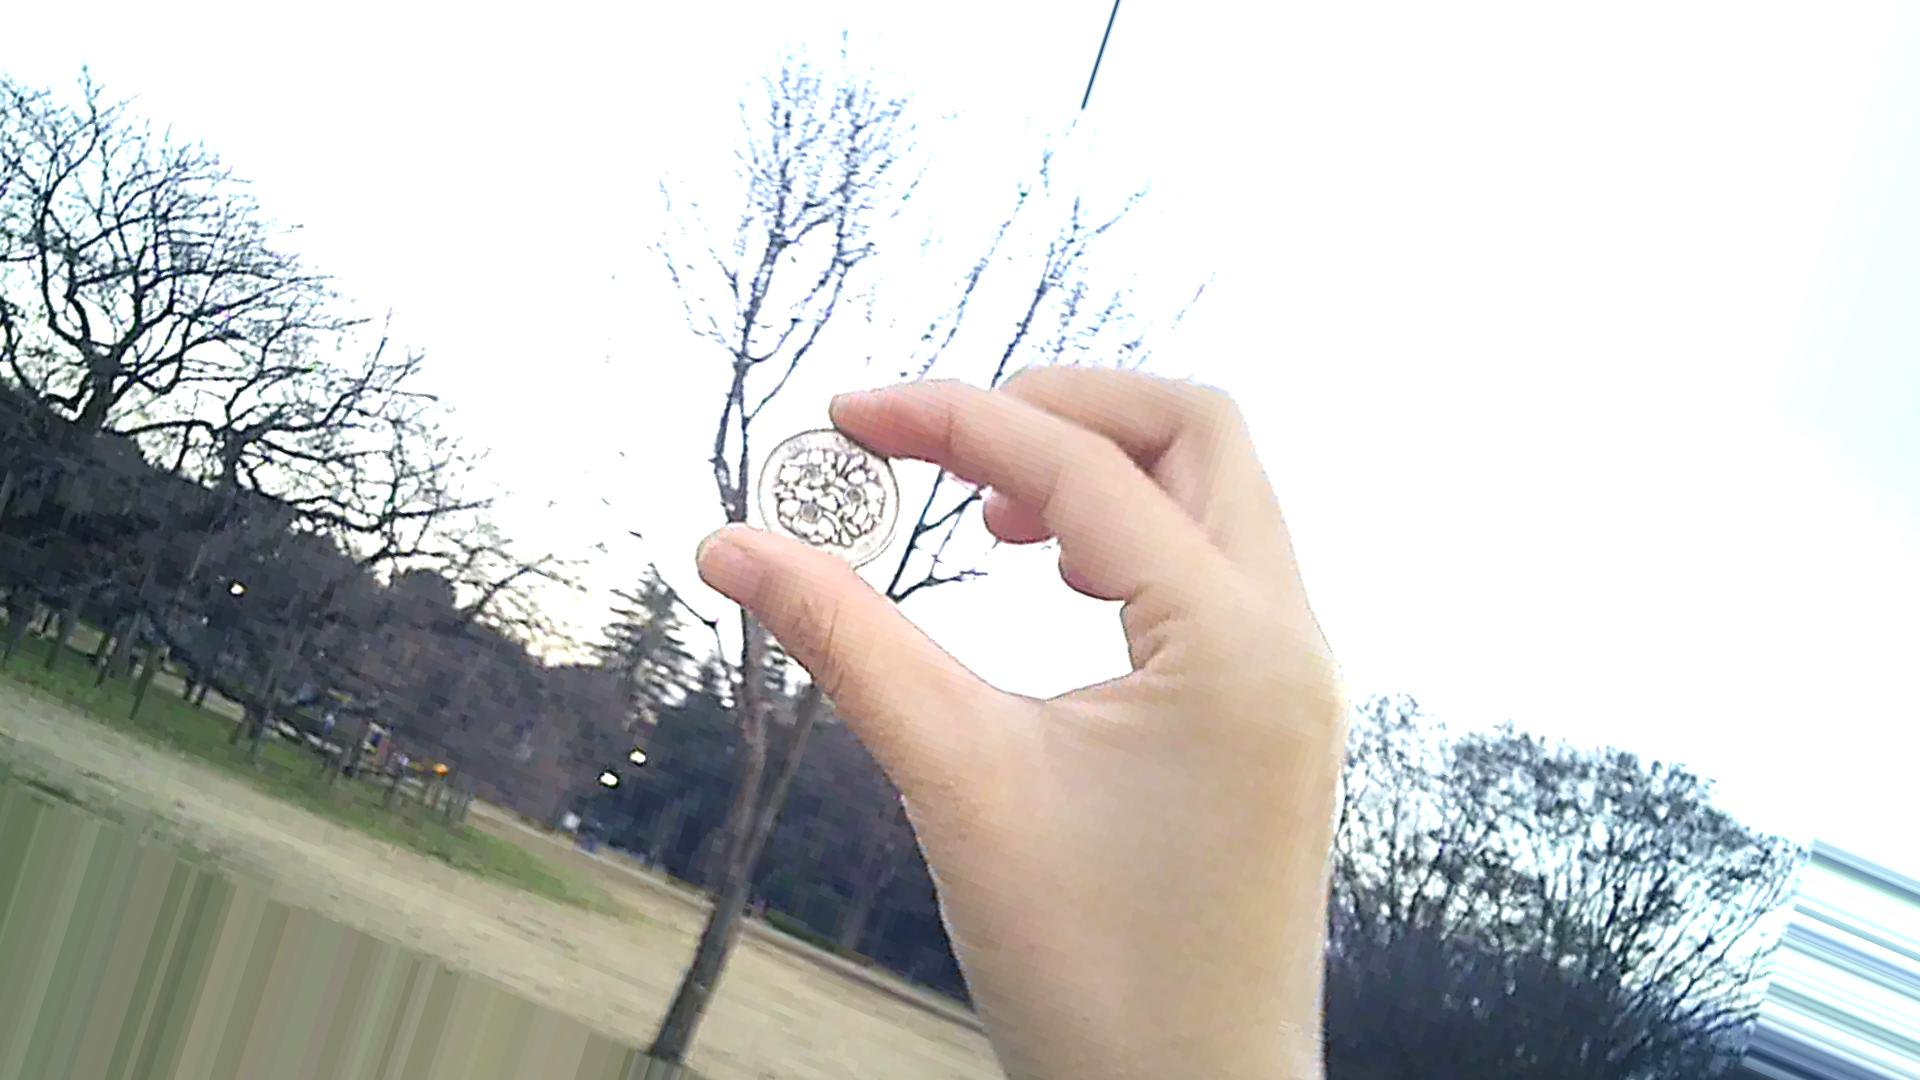100 Yen: (761, 425, 909, 570)
